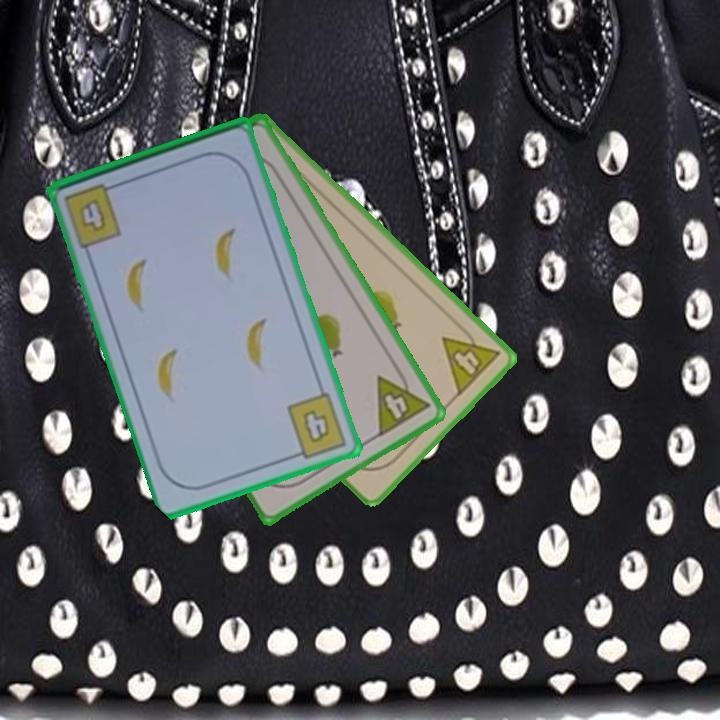4b: (283, 389, 350, 462), (60, 179, 125, 251)
4p: (438, 318, 503, 399), (373, 362, 433, 440)
